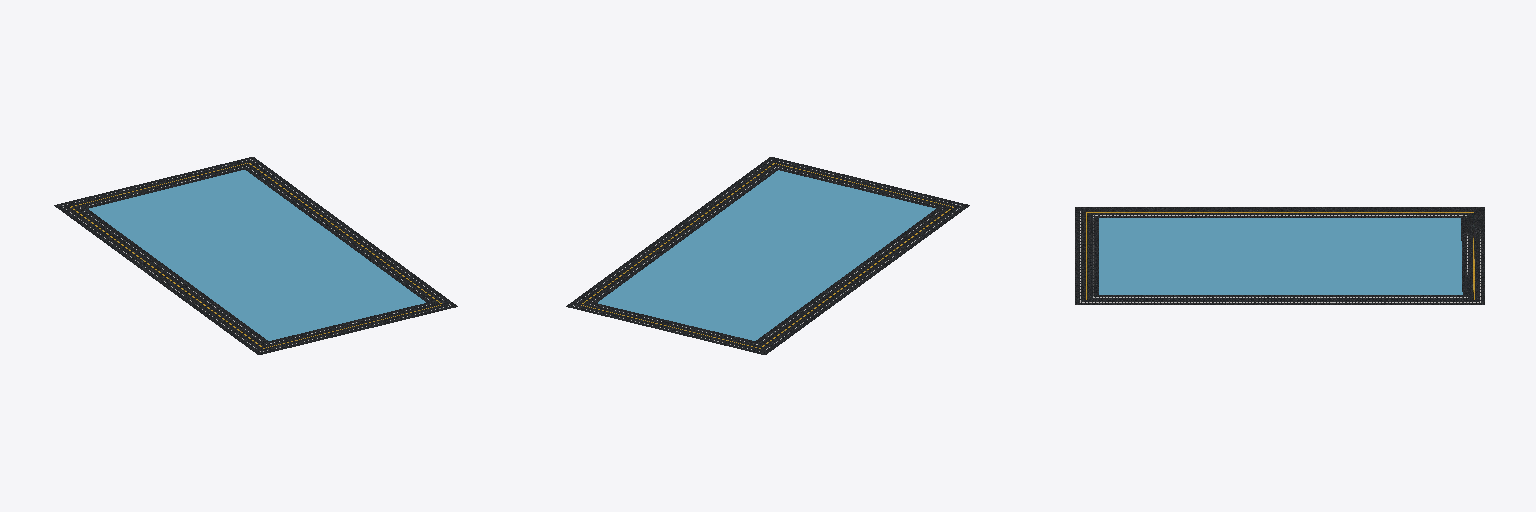
3 renders of one model, left to right at view 1: azimuth 30°, elevation 25°; view 2: azimuth 150°, elevation 25°; view 3: azimuth 270°, elevation 25°, orthographic.
Parts seen in each view (by area): view 1: Plane; view 2: Plane; view 3: Plane.
Part boxes in pixels (bbox=[...]): Plane: bbox=[54, 157, 457, 354]; Plane: bbox=[566, 157, 969, 354]; Plane: bbox=[1075, 207, 1484, 304].
Size of the model in its own units: 144 by 0 by 256.
3 materials, 2 textured.